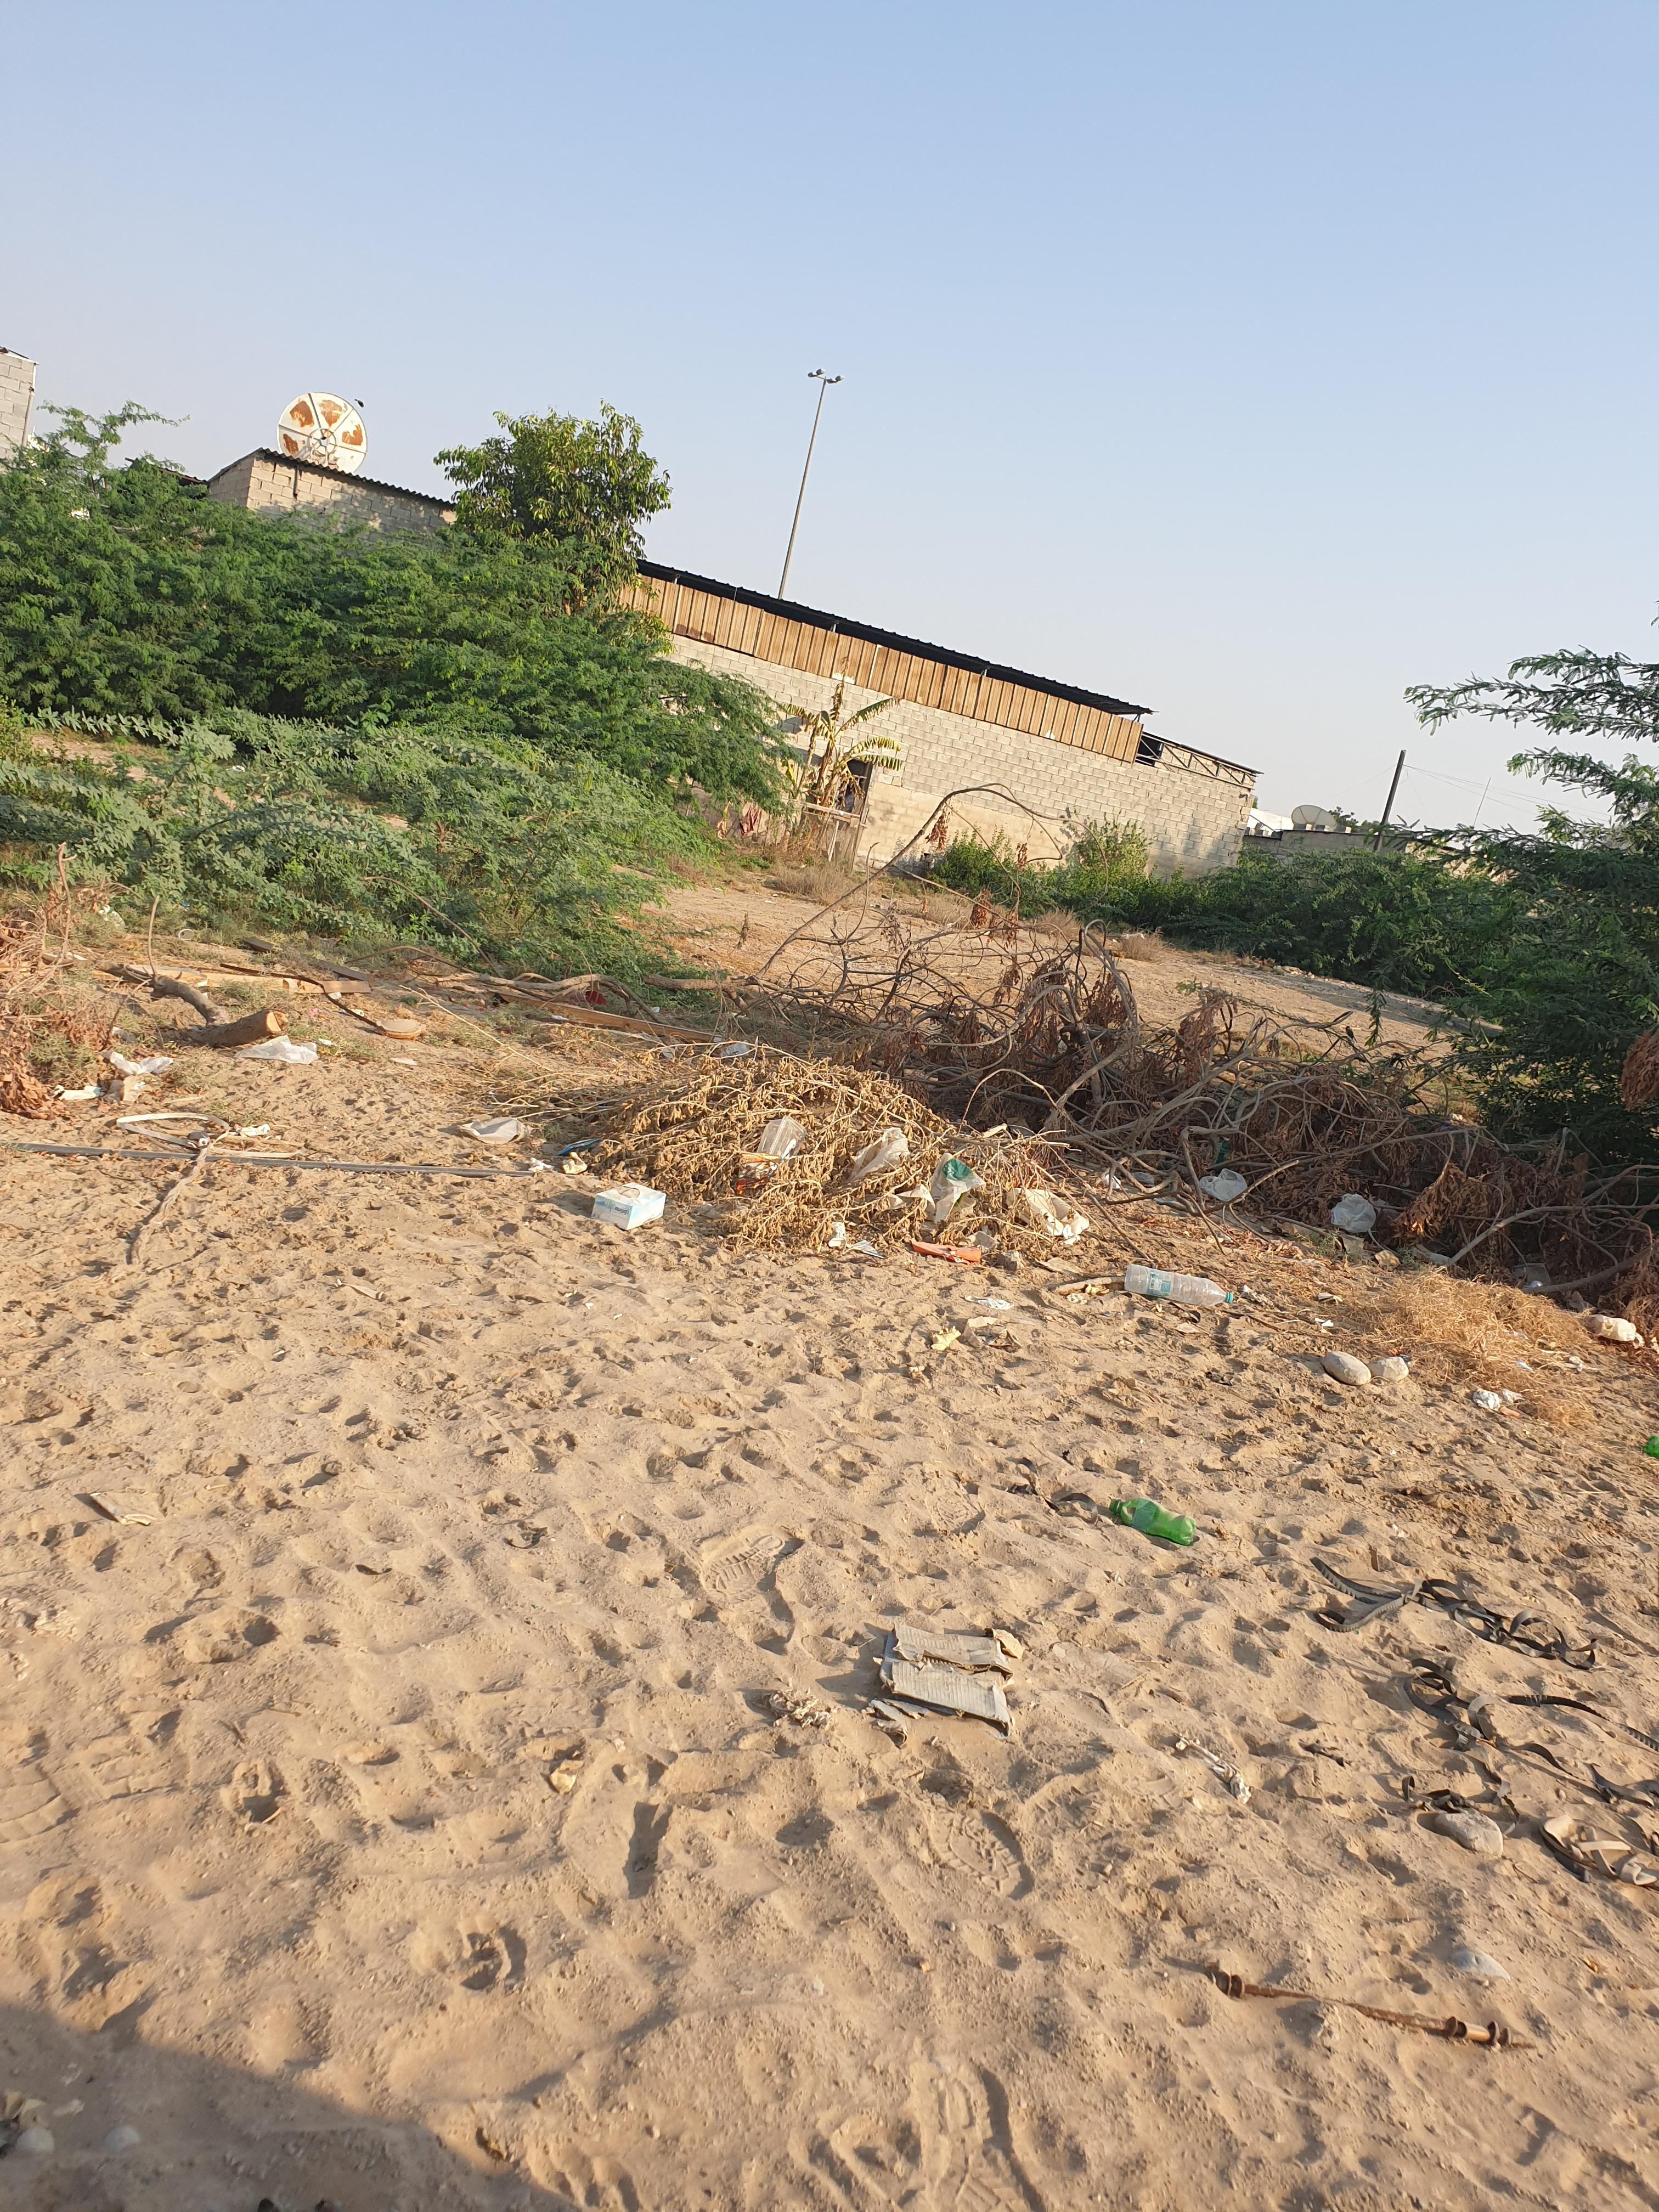fallen_trees: (549, 1008, 1103, 1258), (826, 904, 1302, 1176), (1150, 982, 1474, 1278), (71, 934, 380, 1143)
